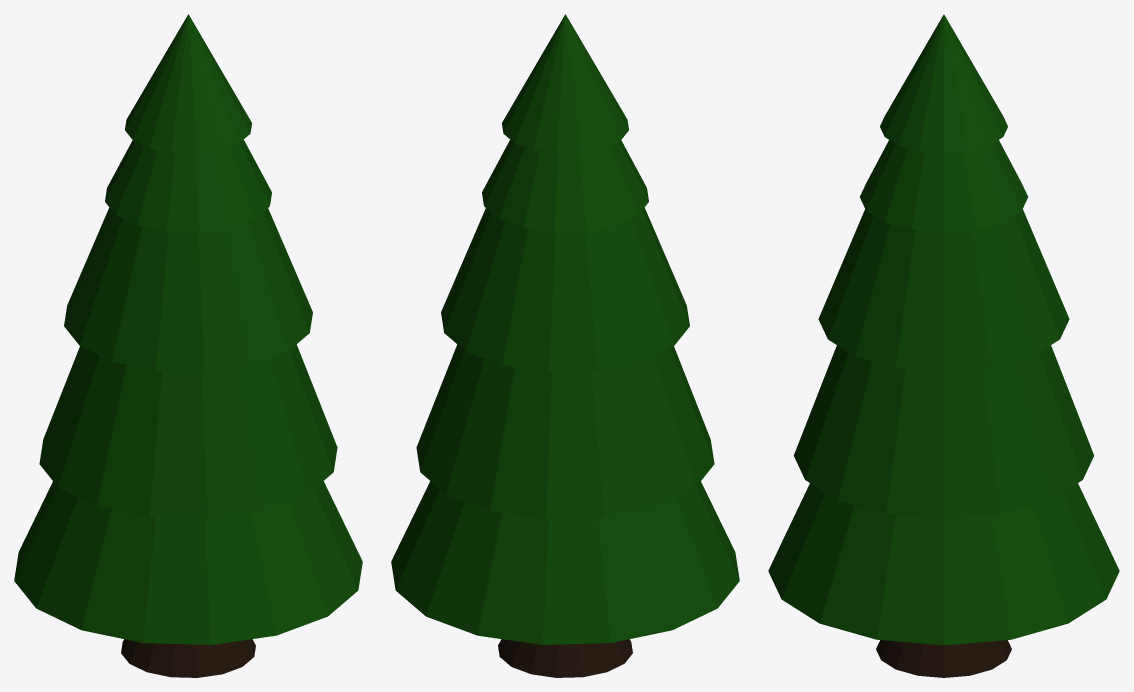
The model's file is Tree6.1.fbx.
The picture shows the model from 3 angles, left to right: view 1: azimuth 30°, elevation 25°; view 2: azimuth 150°, elevation 25°; view 3: azimuth 270°, elevation 25°; orthographic projection.
Parts seen in each view (by area): view 1: Tree; view 2: Tree; view 3: Tree.
Part boxes in pixels (x1,y1,x2,y2): Tree: (14, 14, 362, 677); Tree: (391, 14, 739, 677); Tree: (768, 14, 1119, 677).
Size of the model in its own units: 528 by 1052 by 528.
